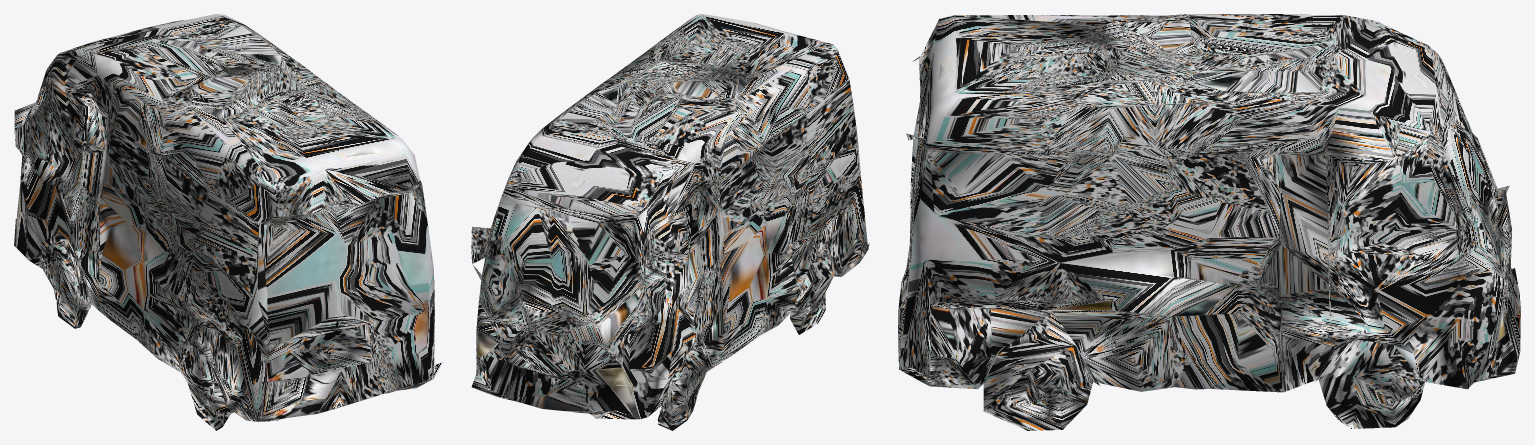
The model's file is van.far.glb.
The picture shows the model from 3 angles, left to right: view 1: azimuth 30°, elevation 25°; view 2: azimuth 150°, elevation 25°; view 3: azimuth 270°, elevation 25°; orthographic projection. The views are drawn at different scales.
Size of the model in its own units: 0.8768 by 1.14 by 1.9.
Materials: 1 (1 with a texture image).
